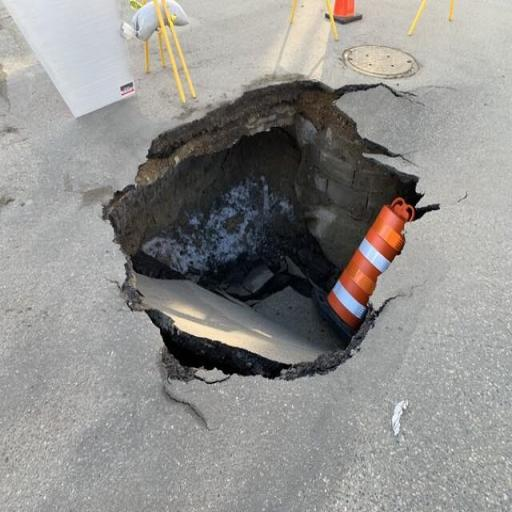Concentric_Crack: (104, 80, 438, 381)
